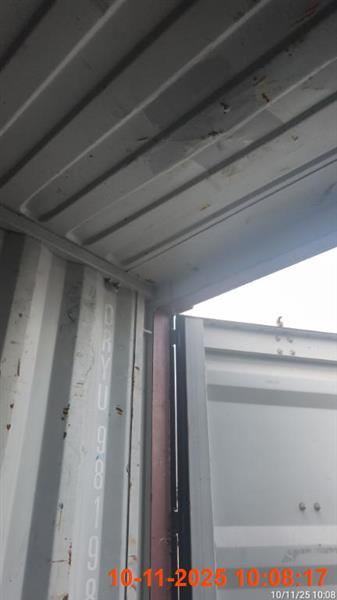dent: (0, 3, 336, 598)
